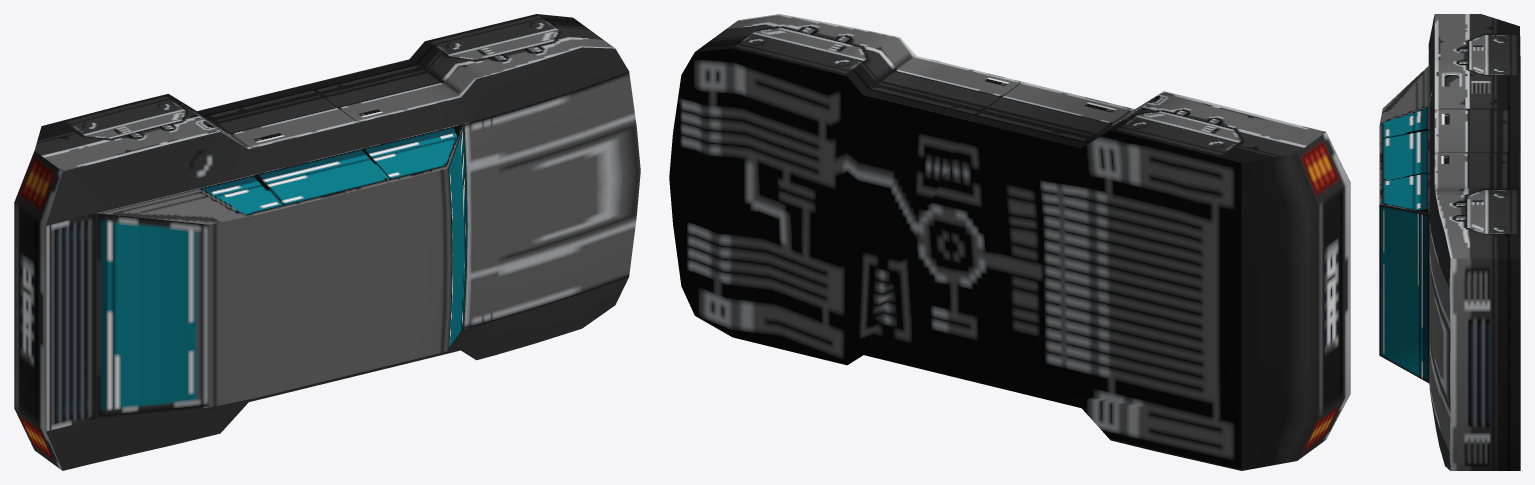
File: sedan.obj
3 views of the same model, side by side, from view 1: azimuth 30°, elevation 25°; view 2: azimuth 150°, elevation 25°; view 3: azimuth 270°, elevation 25° (orthographic). The views are drawn at different scales.
Parts seen in each view (by area): view 1: sedan; view 2: sedan; view 3: sedan.
Boxes of the visible parts, left/top/right/bottom form: sedan: left=14, top=14, right=640, bottom=470; sedan: left=669, top=14, right=1350, bottom=470; sedan: left=1379, top=14, right=1520, bottom=470.
Bounding box in the file's own units: 61.29 × 29.09 × 14.9.
